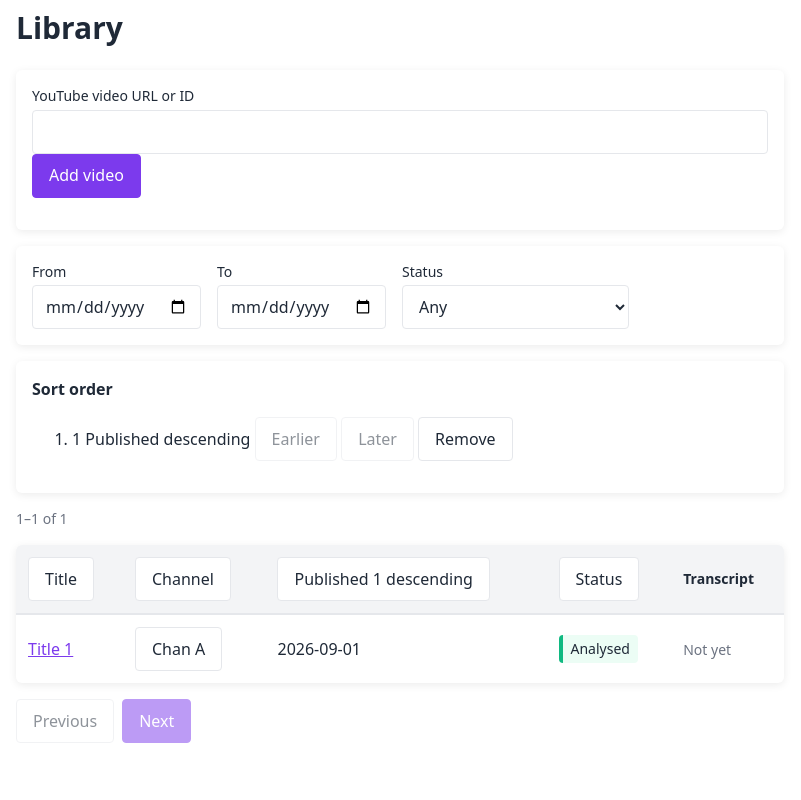
Test: single-video submission › shows an existing submission and state without treating it as an error
Type "dQw4w9WgXcQ" into the field labelled "YouTube video URL or ID" at (400, 132), box [32,110,768,154]
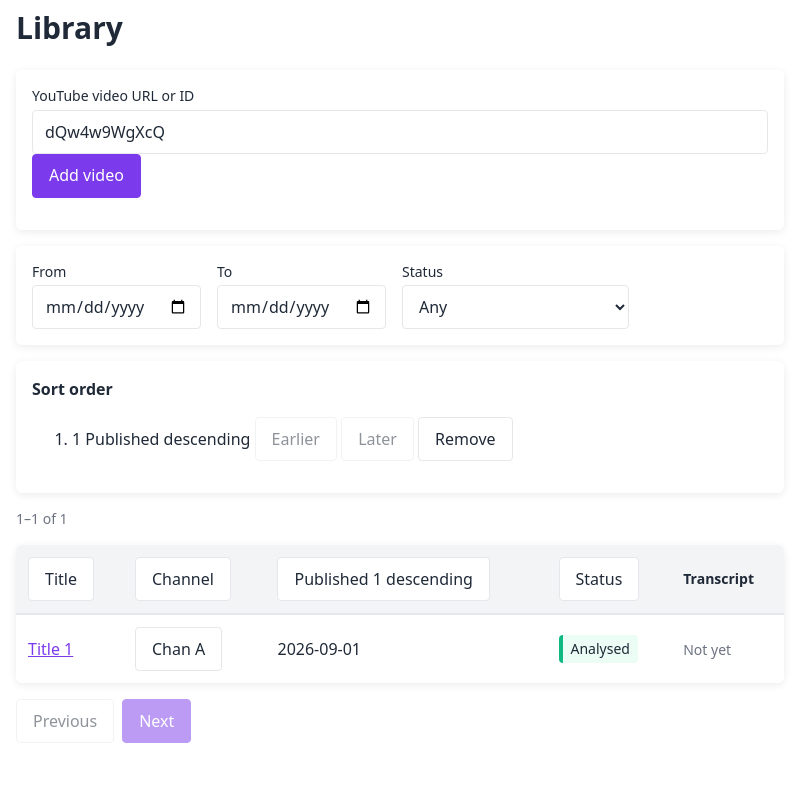
Submit the form "YouTube video URL or ID", box [16,70,784,230]
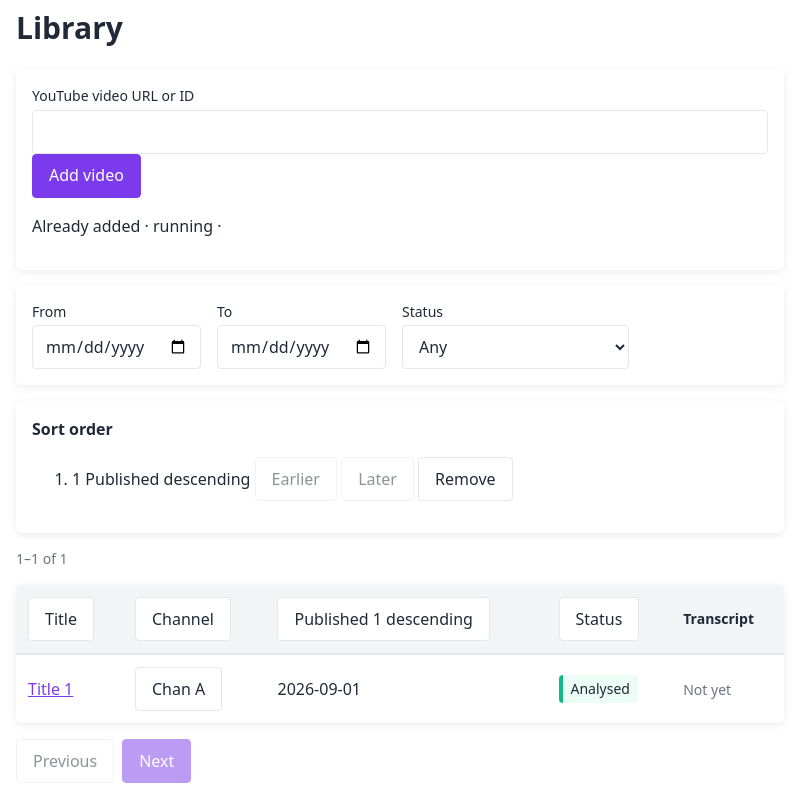
Check: the text "Already added" is shown, box [32,215,140,237]
Check: the text "running" is shown, box [153,215,213,237]
Check: the field labelled "YouTube video URL or ID" is empty, box [32,110,768,154]
